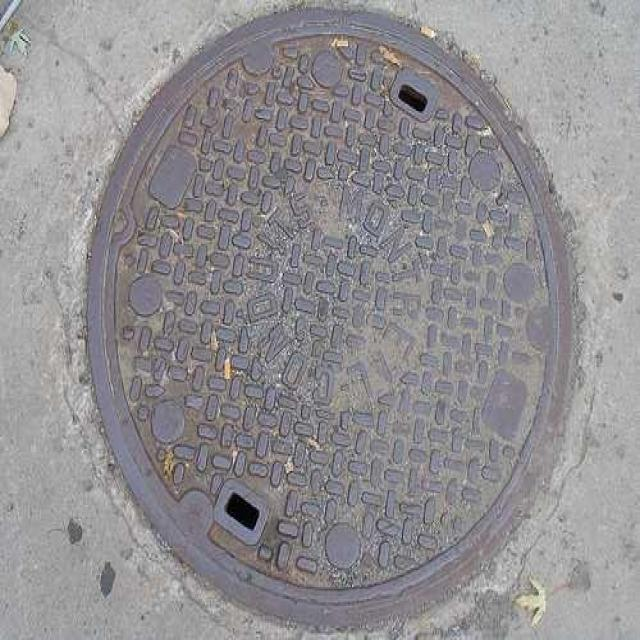manhole: (89, 10, 571, 626)
